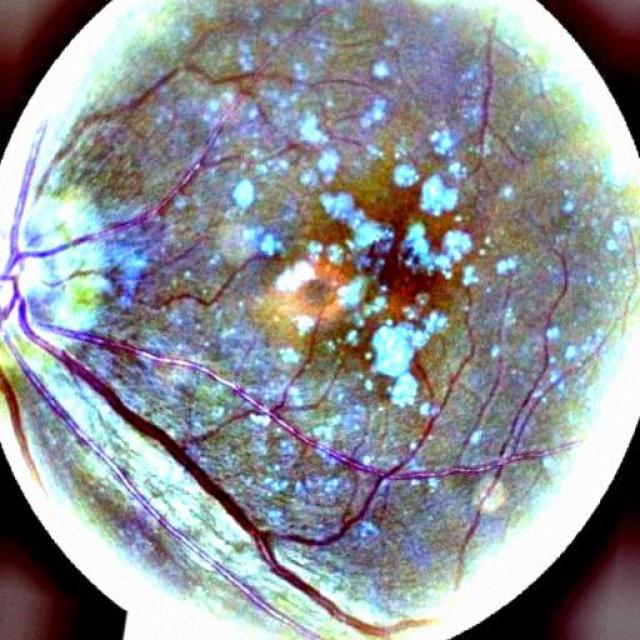Nerves: (0, 124, 579, 636), (210, 559, 320, 639), (45, 266, 119, 288)
Optic Disk: (3, 175, 103, 380)
